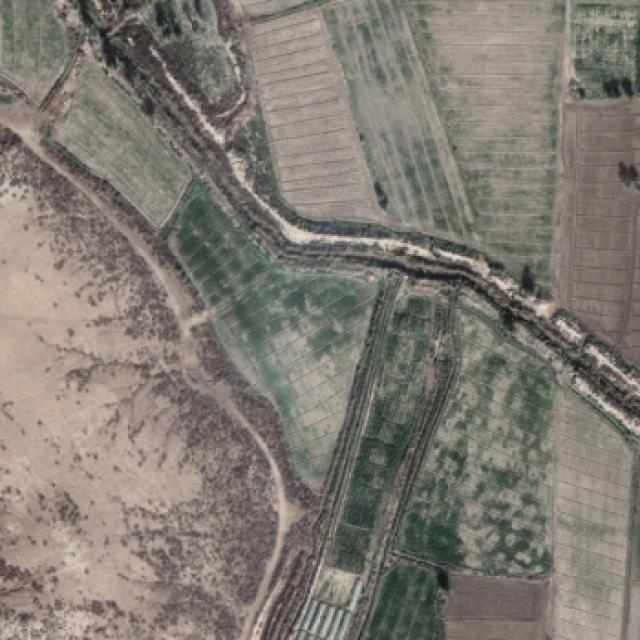ruins: (3, 299, 150, 482), (72, 97, 172, 202), (439, 11, 548, 100), (340, 0, 422, 86)
vegetation: (138, 1, 246, 116), (169, 187, 266, 306), (380, 290, 442, 386)
